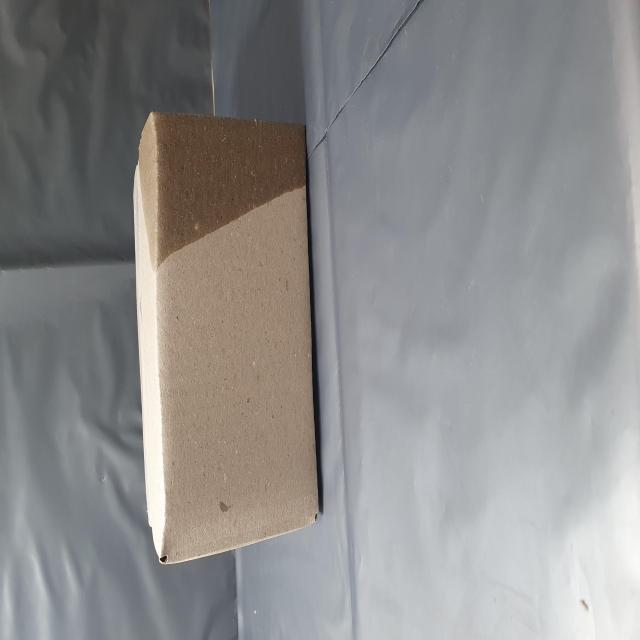wet: (201, 237, 298, 538)
